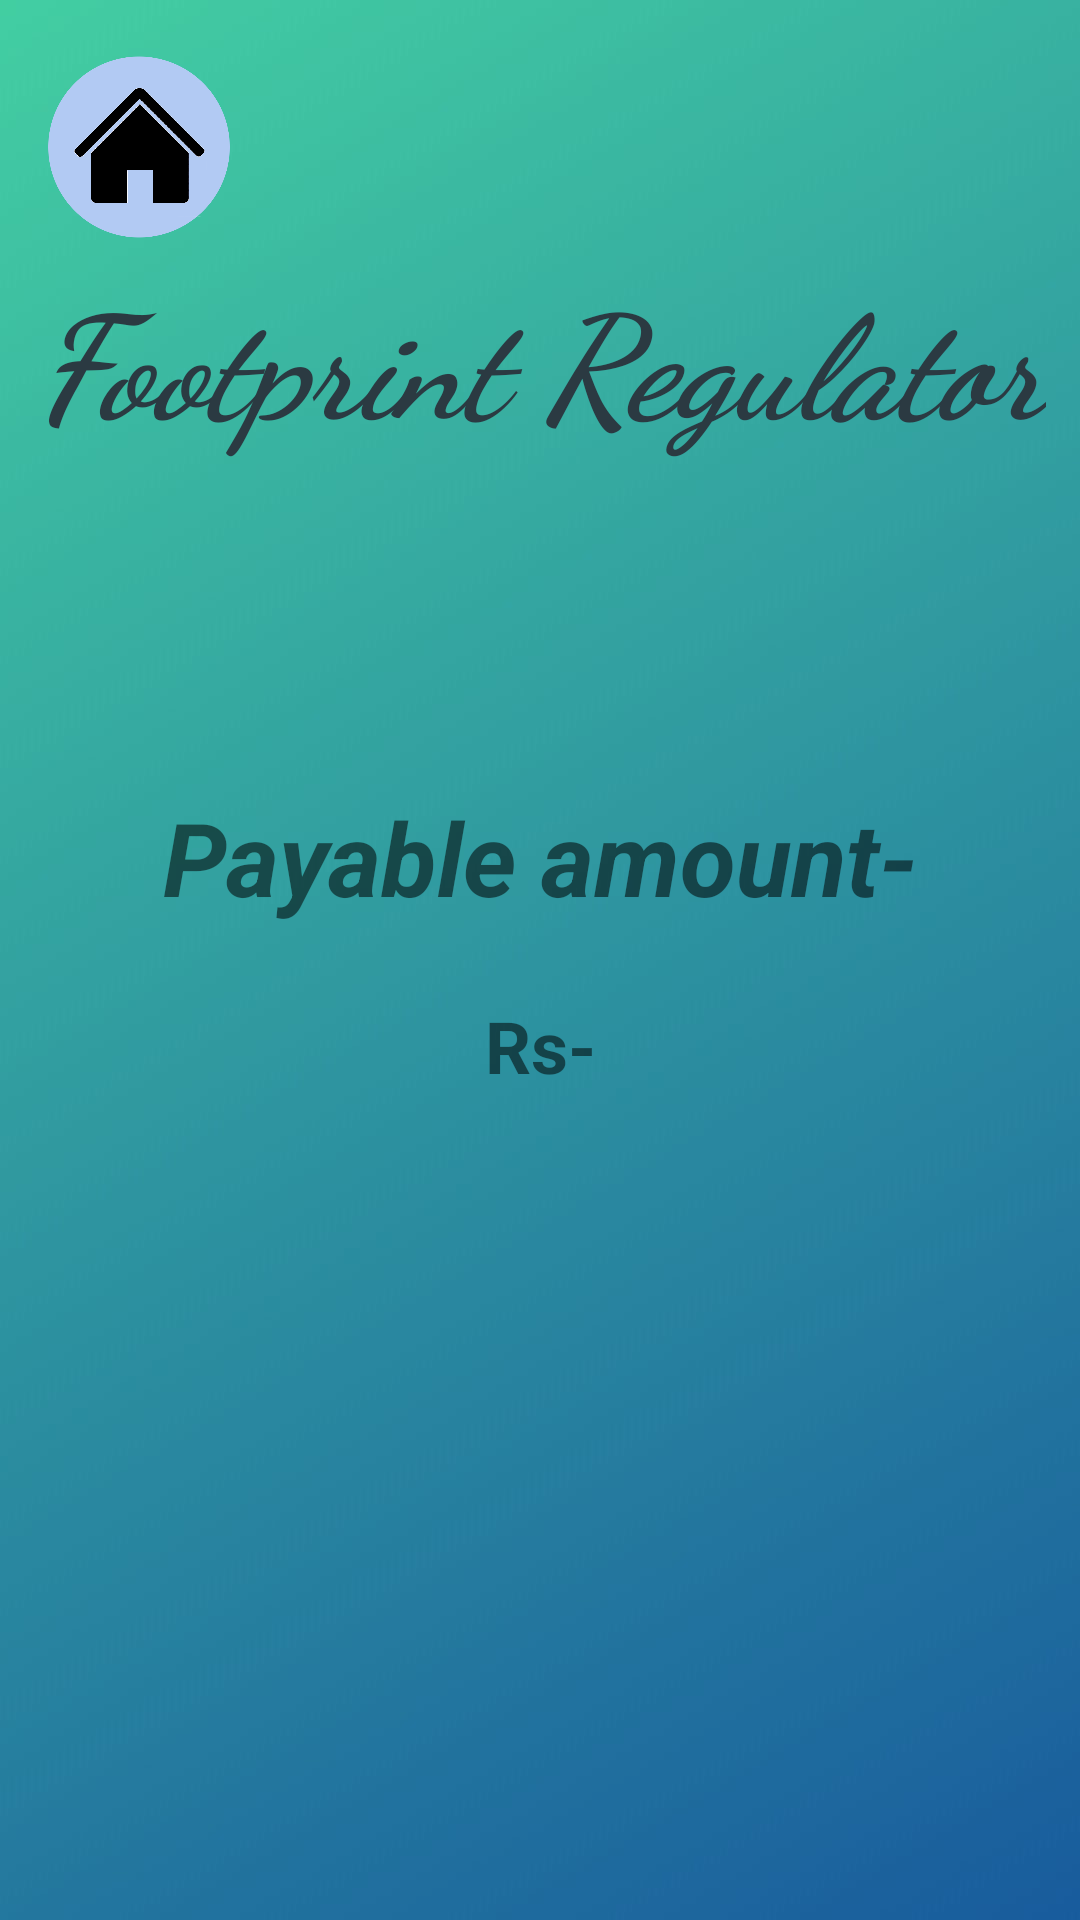

Locate icon controls on the screen. Image size 1080px x 1920px, boxes as (x1, y1, x2, y2).
home: (48, 56, 230, 238)
